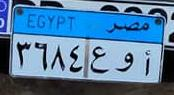3: (16, 40, 32, 72)
4: (68, 43, 84, 76)
6: (33, 39, 49, 73)
8: (50, 42, 66, 74)
ain: (90, 45, 110, 78)
alif: (143, 49, 153, 78)
waw: (114, 50, 134, 78)
